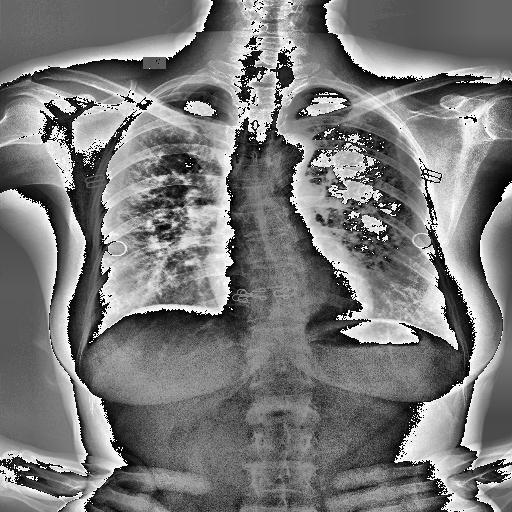0- Aortic enlargement: (266, 132, 314, 164)
5- ILD: (96, 130, 224, 324), (332, 136, 444, 321), (93, 120, 197, 312), (100, 149, 220, 314), (336, 164, 446, 328), (328, 192, 450, 326)
6- Infiltration: (100, 149, 220, 314), (328, 192, 450, 326)
